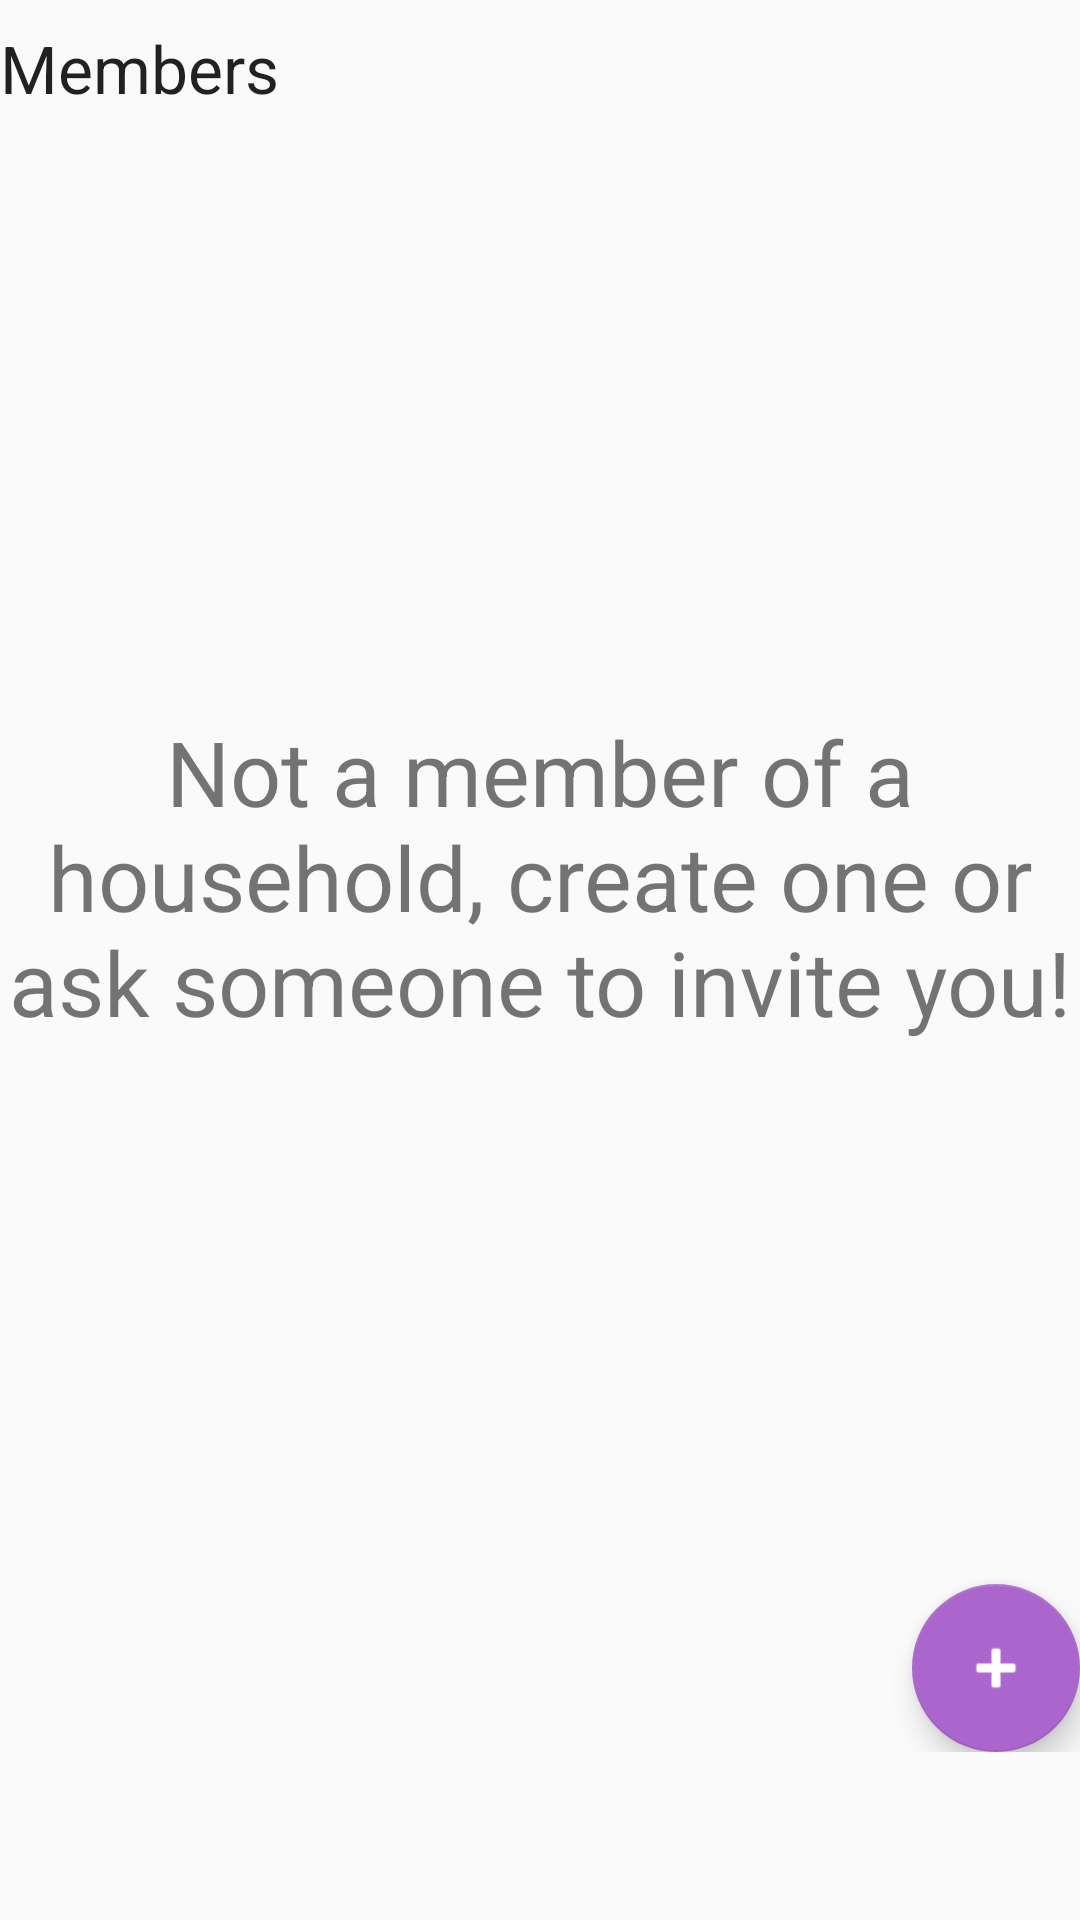

Where icons sit on this 1080x1920 app screen, as (x1, y1, x2, y2):
add: (912, 1584, 1080, 1752)
